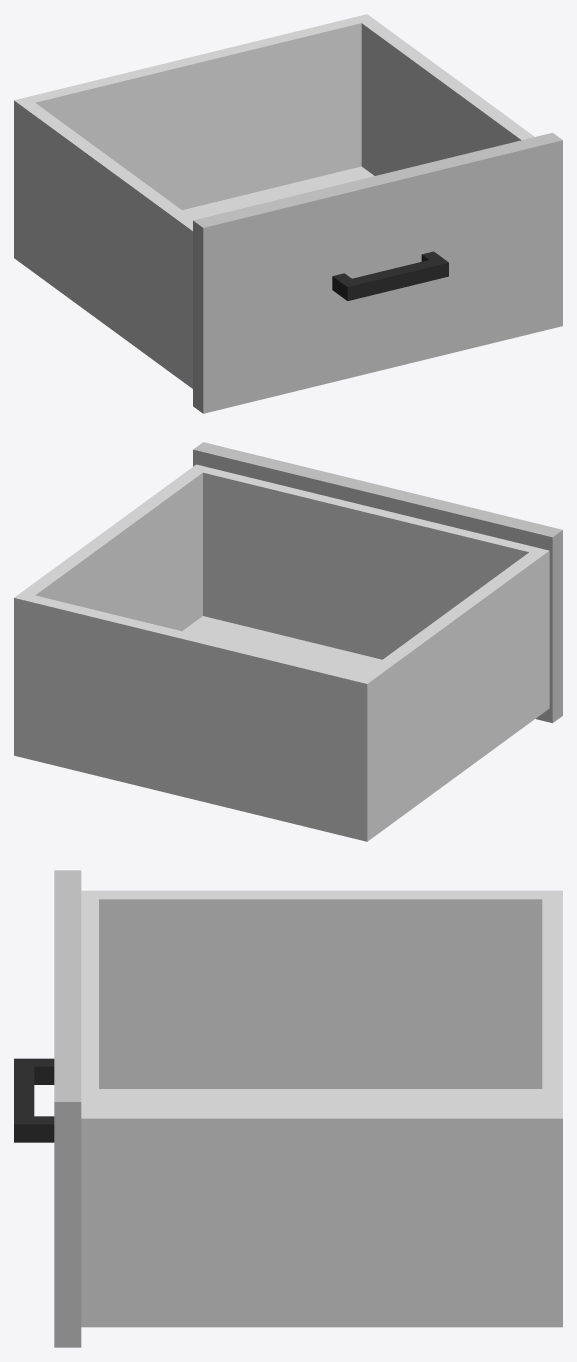
The model's file is BedTable1_C3_02.fbx.
3 views of the same model, one above another, from view 1: azimuth 30°, elevation 25°; view 2: azimuth 150°, elevation 25°; view 3: azimuth 270°, elevation 25° (orthographic). The views are drawn at different scales.
Parts seen in each view (by area): view 1: BedTable1_C3_02; view 2: BedTable1_C3_02; view 3: BedTable1_C3_02.
Part boxes in pixels (x1,y1,x2,y2): BedTable1_C3_02: (14,14,562,413); BedTable1_C3_02: (14,442,562,841); BedTable1_C3_02: (14,870,562,1347).
Size of the model in its own units: 40.5 by 20 by 40.51.
